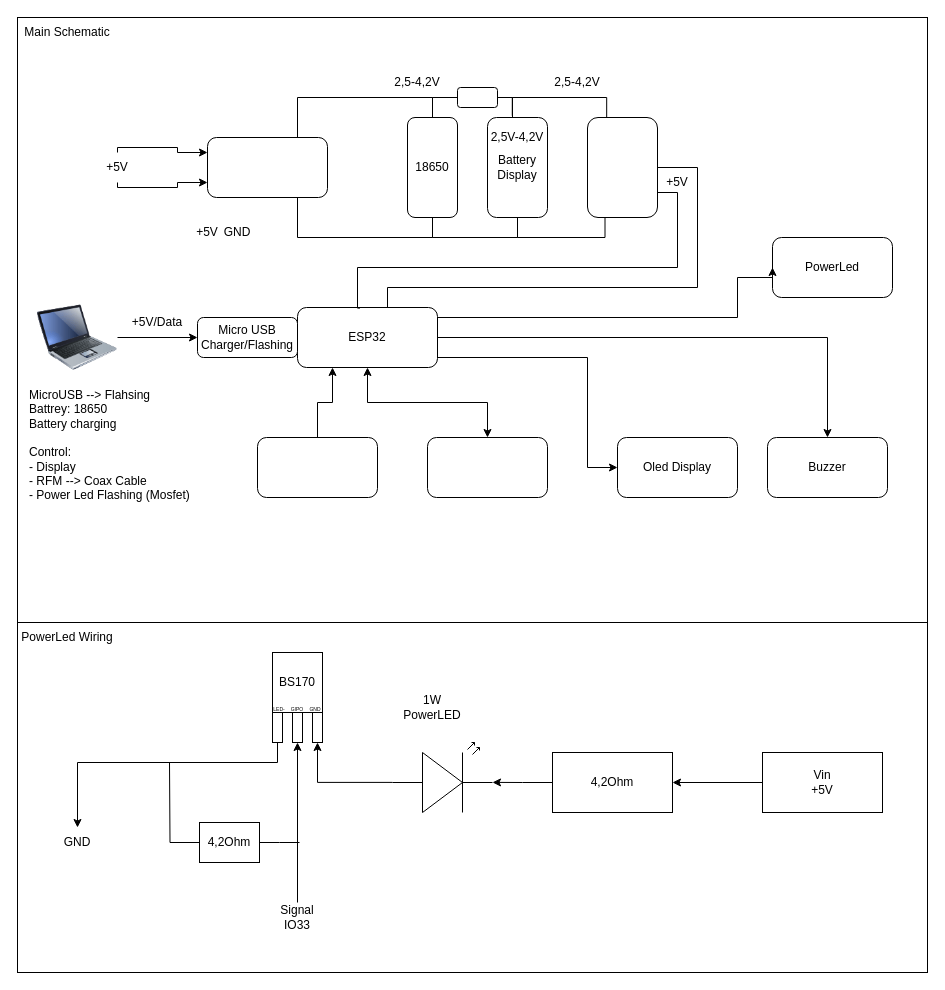
Image size: 945x990. Some labels were removed from this diagram. The centre of each missing label's shape, as x and y in pixels:
4x Button input: (317,467)
MT3608-2A Step-up 5V: (622,167)
RFM69HW: (487,467)
Switch: (477,97)
USB-C charger: (267,167)
